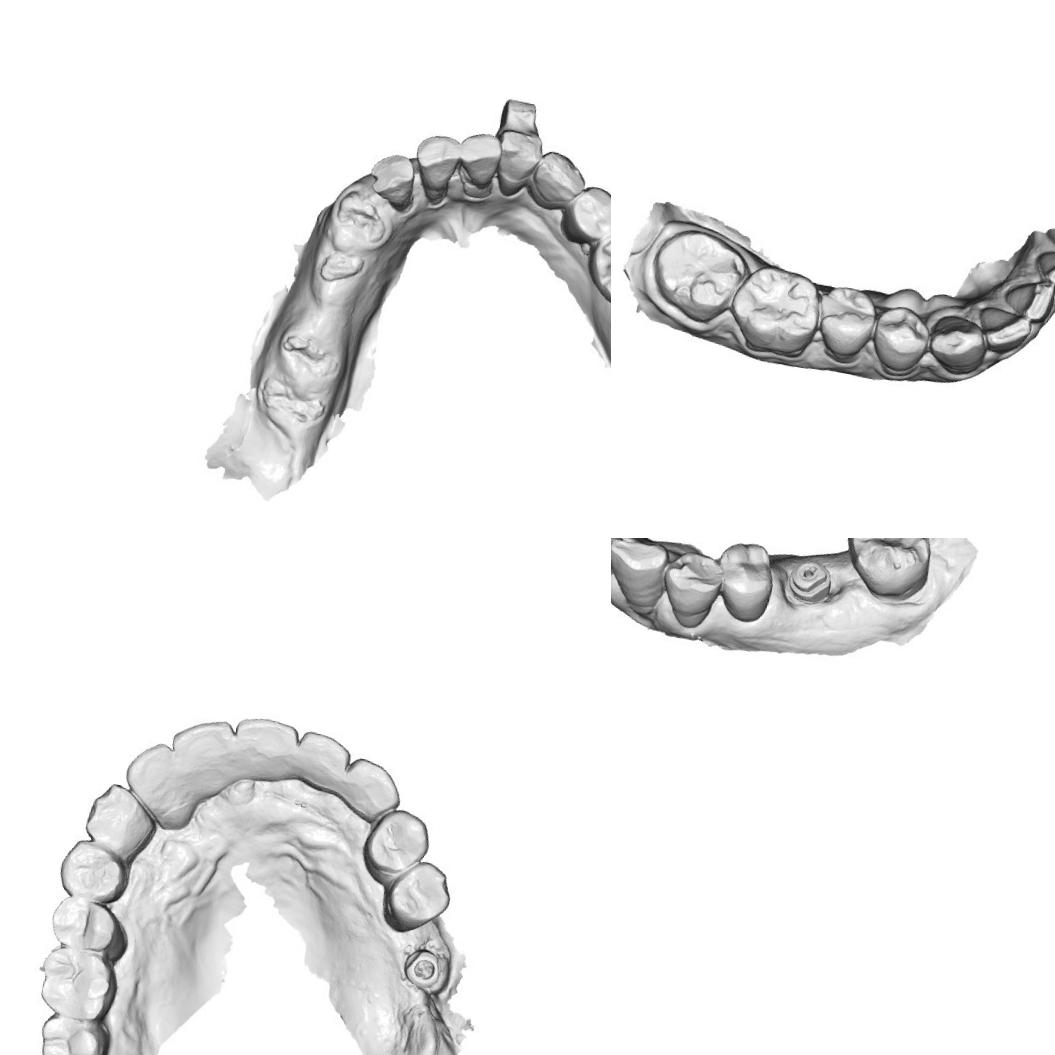canine: (334, 754, 404, 827), (83, 784, 154, 854), (611, 538, 671, 620), (924, 310, 992, 375), (524, 147, 588, 214)
implant: (397, 942, 448, 993)
implant_minus: (786, 556, 837, 611)
incisor: (166, 716, 244, 800), (227, 711, 310, 788), (122, 742, 198, 824), (291, 728, 352, 797), (365, 151, 422, 214), (412, 134, 463, 204), (493, 130, 540, 200), (976, 302, 1032, 353), (458, 131, 503, 190), (1008, 278, 1052, 322)
molar: (646, 215, 748, 327), (720, 255, 829, 359), (30, 940, 124, 1028), (834, 538, 941, 607), (31, 1007, 117, 1055), (583, 221, 611, 307)
premolar: (372, 850, 461, 942), (45, 833, 139, 913), (356, 803, 433, 894), (43, 890, 140, 961), (806, 281, 884, 369), (650, 547, 726, 635), (712, 539, 780, 626), (556, 178, 611, 248), (874, 302, 930, 370)
